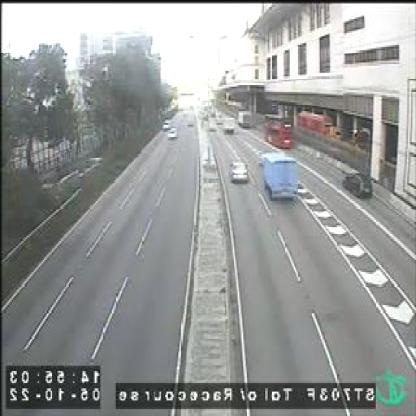Bus: (265, 115, 291, 146)
Car: (344, 172, 372, 198), (231, 160, 251, 180)
Truck: (262, 151, 296, 199), (239, 109, 251, 125)
